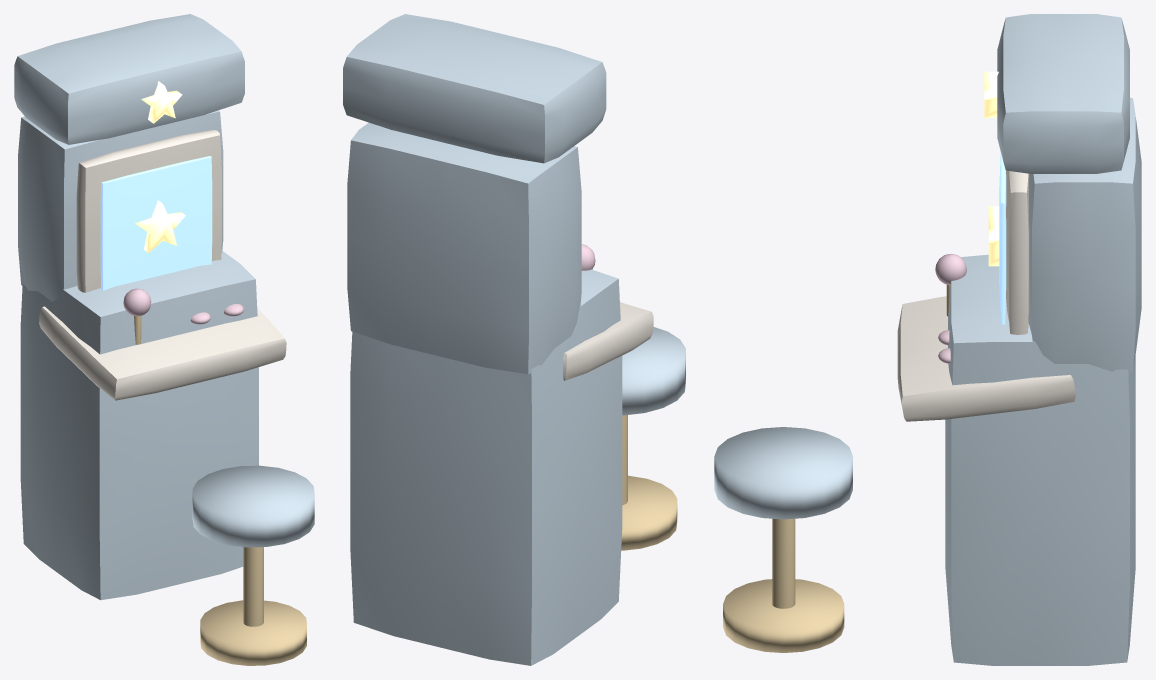
Rendered from blue_arcade.glb.
3 renders of one model, left to right at view 1: azimuth 30°, elevation 25°; view 2: azimuth 150°, elevation 25°; view 3: azimuth 270°, elevation 25°, orthographic. The views are drawn at different scales.
Visible parts, largest first — view 1: cabinet lower, marquee, cabinet upper, control deck, display, stool seat, screen bezel, stool foot, stool stem, pixel star, marquee star, joystick knob; view 2: cabinet lower, cabinet upper, marquee, stool seat, stool foot, control deck, stool stem; view 3: cabinet lower, cabinet upper, marquee, stool seat, control deck, stool foot, screen bezel, stool stem, display, joystick knob, pixel star, marquee star.
Boxes of the visible parts, x1,y1,x2,y2 form: cabinet lower: (20,251,258,600); marquee: (14,14,244,144); cabinet upper: (18,110,223,301); control deck: (39,306,286,400); display: (100,156,212,290); stool seat: (192,465,314,547); screen bezel: (76,130,222,292); stool foot: (200,600,306,665); stool stem: (243,547,263,626); pixel star: (135,200,185,252); marquee star: (141,81,182,123); joystick knob: (123,288,151,316); cabinet lower: (350,269,622,665); cabinet upper: (347,122,581,374); marquee: (343,14,606,163); stool seat: (622,326,685,415); stool foot: (621,475,677,550); control deck: (562,302,653,380); stool stem: (622,415,627,505); cabinet lower: (945,254,1135,665); cabinet upper: (1028,97,1141,372); marquee: (997,14,1129,173); stool seat: (714,427,852,519); control deck: (897,296,1075,421); stool foot: (723,579,844,652); screen bezel: (1006,170,1029,334); stool stem: (772,518,795,608); display: (999,152,1006,324); joystick knob: (935,254,966,285); pixel star: (988,206,999,266); marquee star: (984,71,998,117).
Size of the model in its own units: 0.84 by 2.18 by 1.48.
